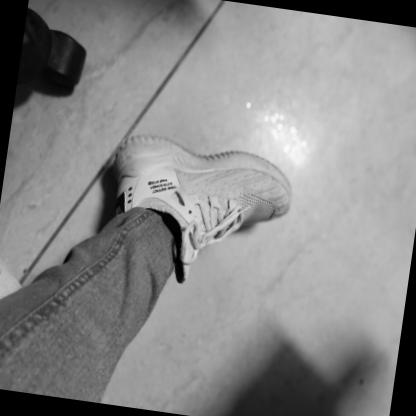ankle: (162, 204, 169, 213)
heel: (118, 150, 123, 156)
left_foot: (105, 130, 297, 256)
pinky: (267, 215, 272, 220)
toe: (277, 184, 282, 191)
